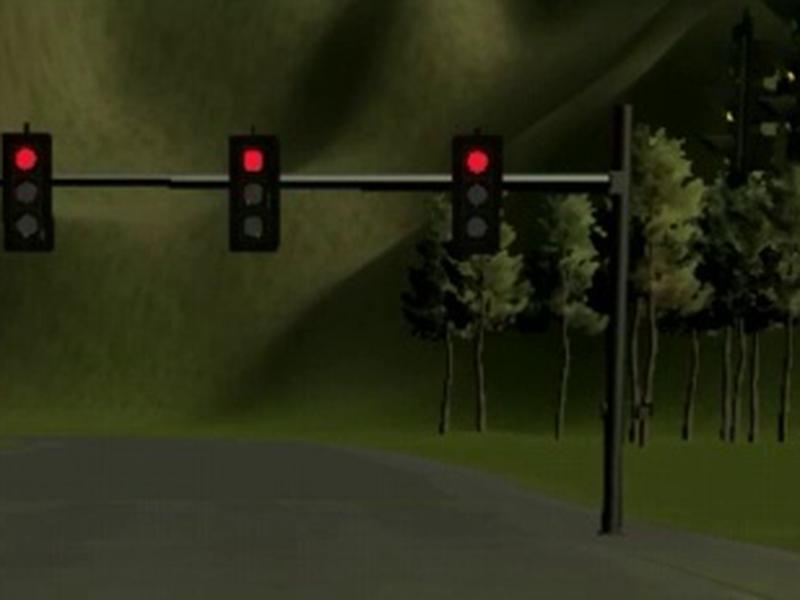Red: (1, 130, 55, 250), (229, 135, 282, 250), (453, 135, 501, 252)
